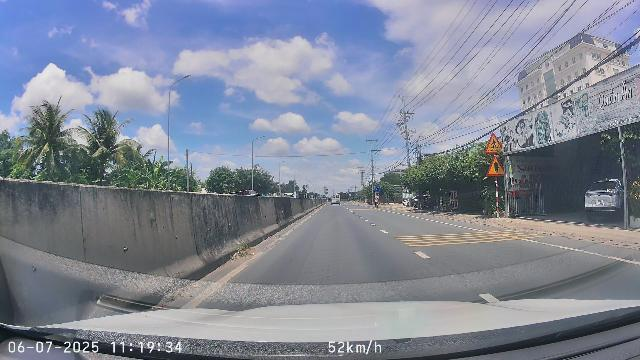207-giao-nhau-voi-duong-khong-uu-tien: (487, 155, 504, 177)
224-duong-nguoi-di-bo-cat-ngang: (485, 132, 502, 154)
